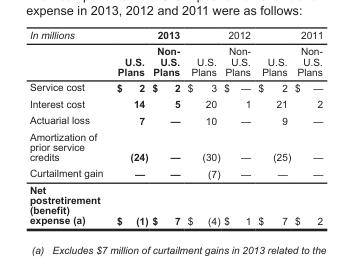table: (28, 28, 322, 225)
table column: (28, 28, 109, 225), (109, 28, 149, 225), (253, 28, 292, 225), (183, 28, 221, 225), (149, 28, 183, 225), (221, 28, 253, 225), (292, 28, 322, 225)
table column header: (28, 28, 322, 79)
table row: (28, 28, 322, 79), (28, 181, 322, 225), (28, 128, 322, 164), (28, 111, 322, 128), (28, 164, 322, 181), (28, 79, 322, 95), (28, 95, 322, 111)
